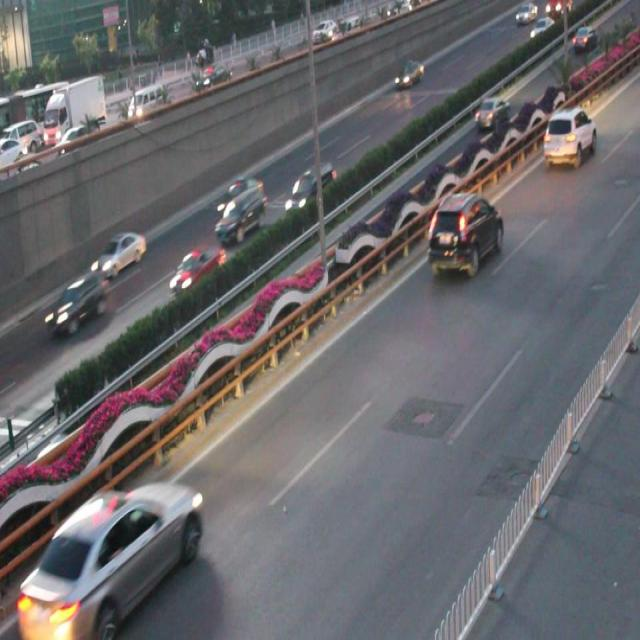car: (22, 487, 204, 632), (427, 195, 504, 278), (44, 278, 109, 336), (541, 110, 597, 168), (169, 244, 226, 293), (92, 228, 146, 278), (282, 165, 335, 213), (214, 191, 266, 239), (216, 177, 263, 211), (472, 96, 510, 132), (390, 59, 425, 88)
